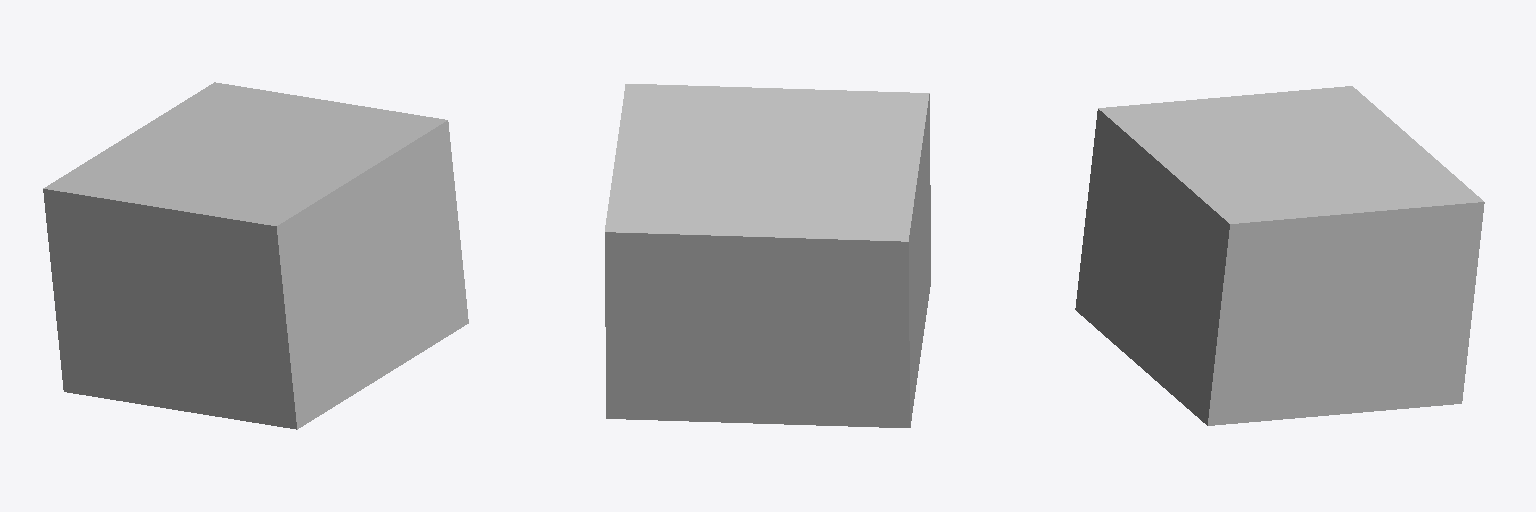
File: rojo.obj
The picture shows the model from 3 angles: view 1: azimuth 30°, elevation 25°; view 2: azimuth 150°, elevation 25°; view 3: azimuth 270°, elevation 25°; orthographic projection.
Bounding box in the file's own units: 18.77 × 11.51 × 18.83.